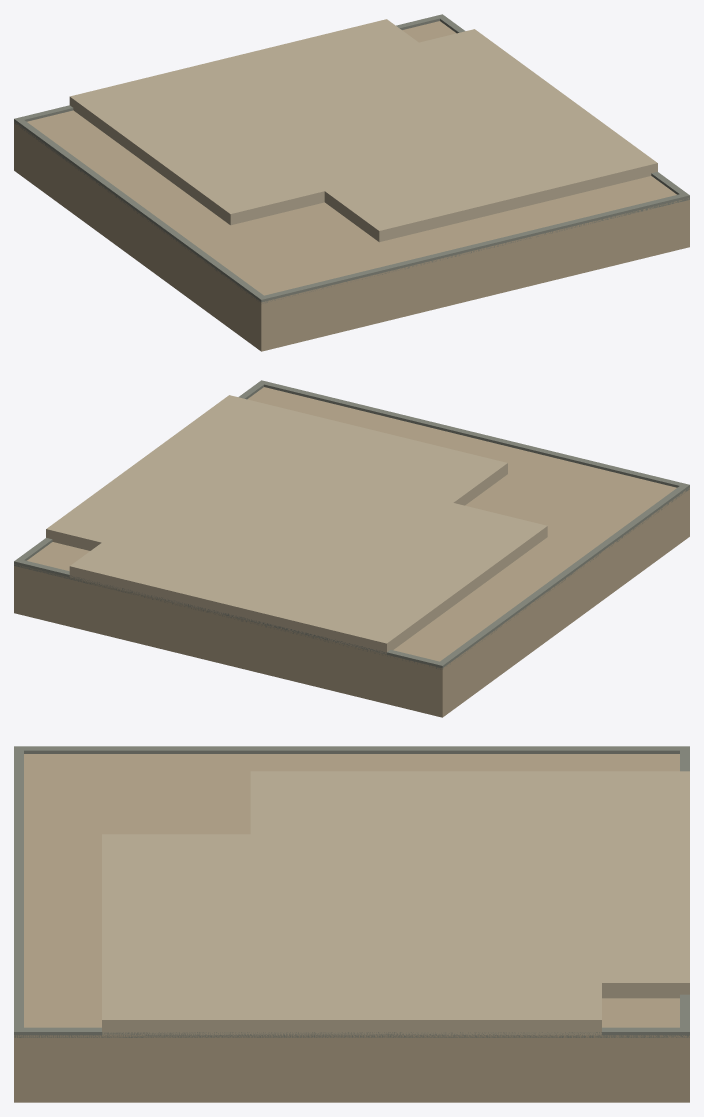
Rendered from Block_Road_Dirt_Corner.glb.
3 views of the same model, one above another, from view 1: azimuth 30°, elevation 25°; view 2: azimuth 150°, elevation 25°; view 3: azimuth 270°, elevation 25° (orthographic). The views are drawn at different scales.
Parts seen in each view (by area): view 1: world; view 2: world; view 3: world.
Boxes of the visible parts, x1=… form: world: x1=14, y1=14, x2=689, y2=351; world: x1=14, y1=380, x2=689, y2=717; world: x1=14, y1=746, x2=689, y2=1102.
Size of the model in its own units: 2 by 0.27 by 2.
